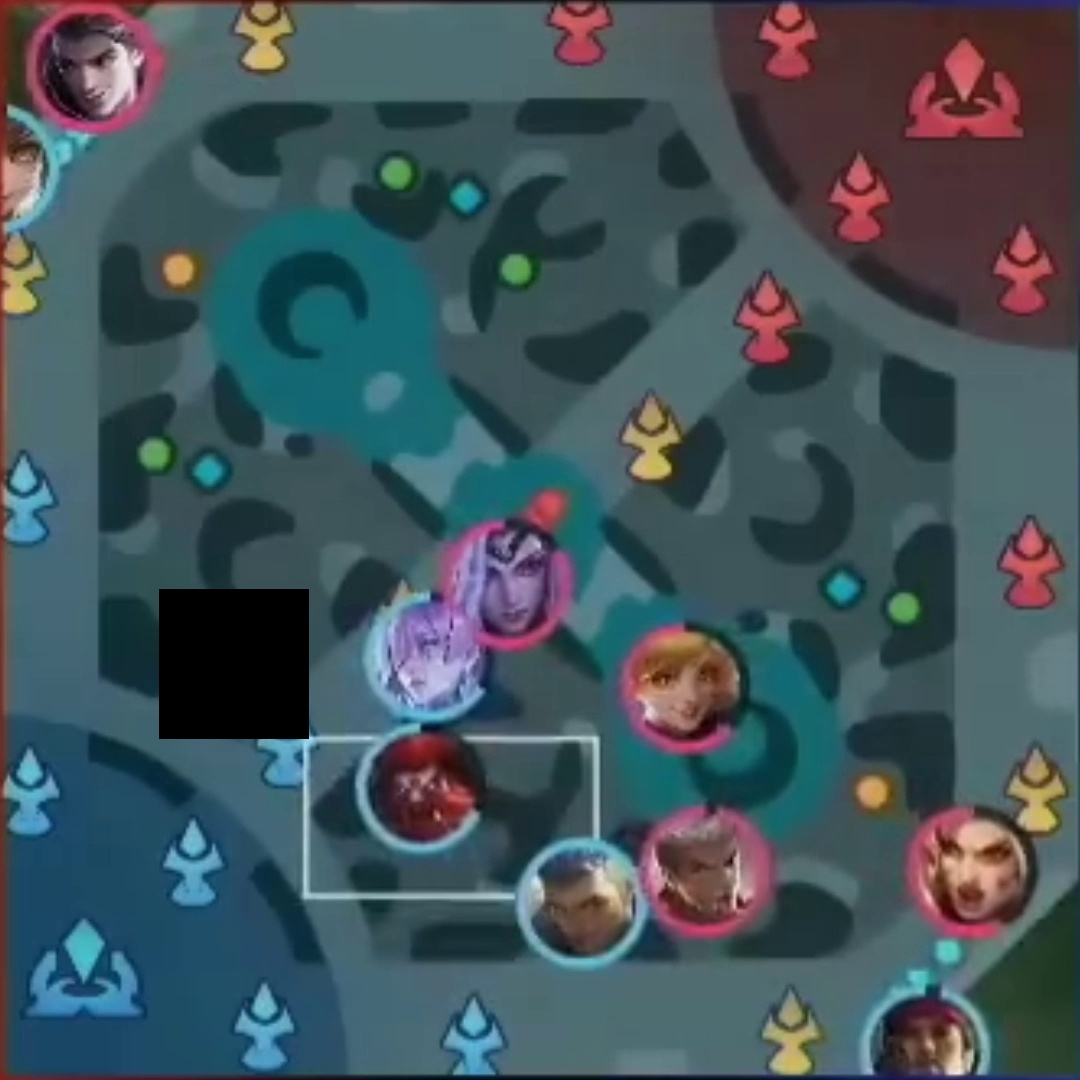Chou: (650, 811, 763, 934)
Claude: (36, 14, 151, 117)
Fanny: (626, 631, 737, 752)
Fredrinn: (529, 850, 634, 957)
Lapu-Lapu: (871, 994, 980, 1080)
Masha: (913, 810, 1029, 930)
Minotaur: (371, 731, 476, 842)
Novaria: (372, 599, 482, 716)
Valentina: (451, 528, 561, 634)
Wanwan: (2, 109, 55, 236)
